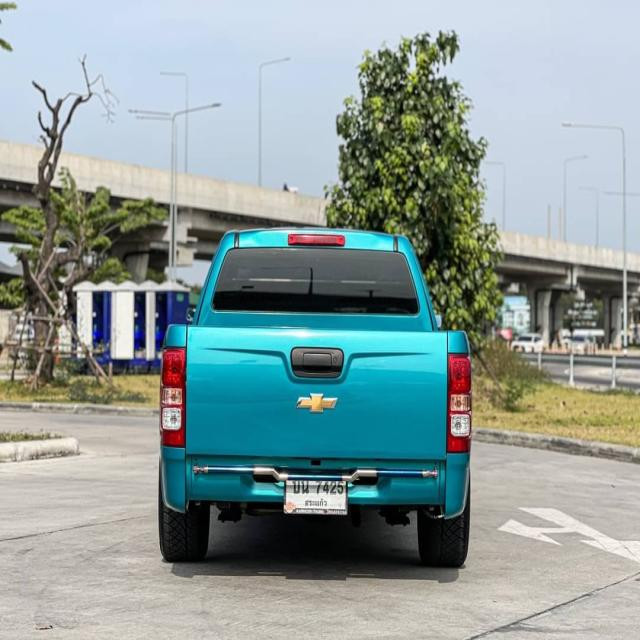license_plate: (282, 474, 351, 515)
